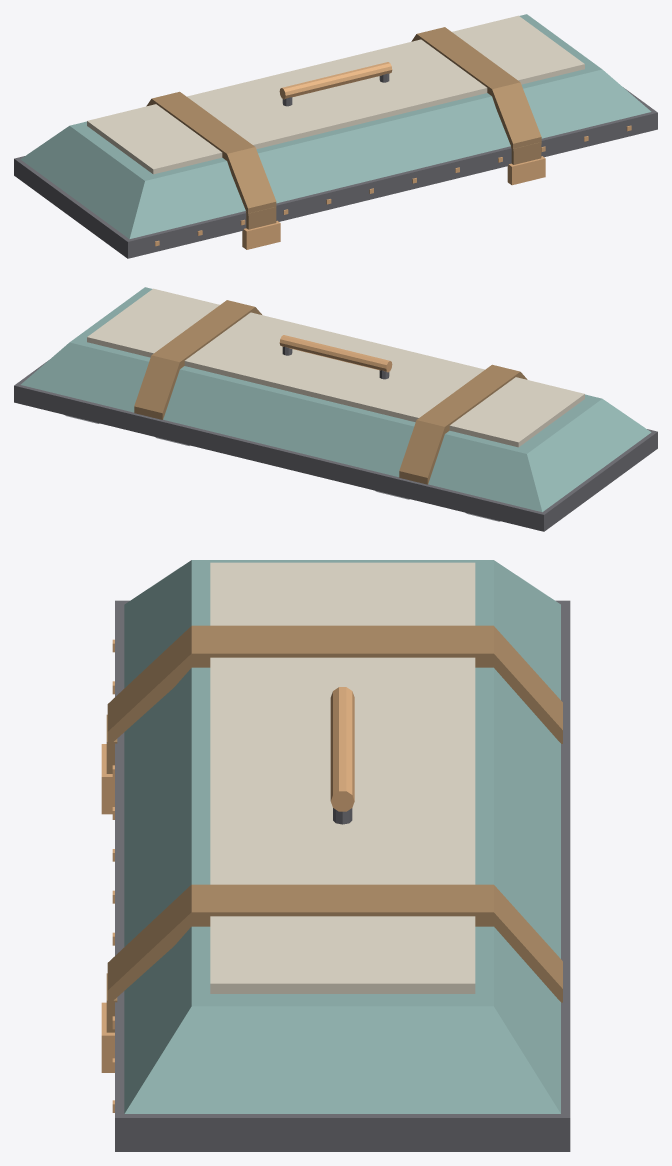
Rendered from backpack_lid.glb.
The picture shows the model from 3 angles, top to bottom: view 1: azimuth 30°, elevation 25°; view 2: azimuth 150°, elevation 25°; view 3: azimuth 270°, elevation 25°; orthographic projection. The views are drawn at different scales.
Visible parts, largest first — view 1: BackpackLid; view 2: BackpackLid; view 3: BackpackLid.
Part boxes in pixels (<box>): BackpackLid: <box>14,14,657,258</box>; BackpackLid: <box>14,287,657,531</box>; BackpackLid: <box>101,560,570,1151</box>.
Size of the model in its own units: 3.28 by 0.5554 by 1.26.
